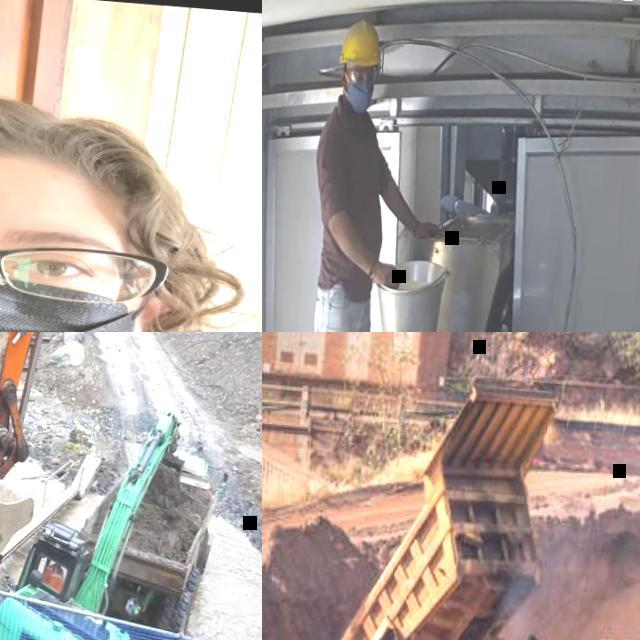helmet: (338, 16, 386, 76)
vest: (46, 564, 64, 589)
